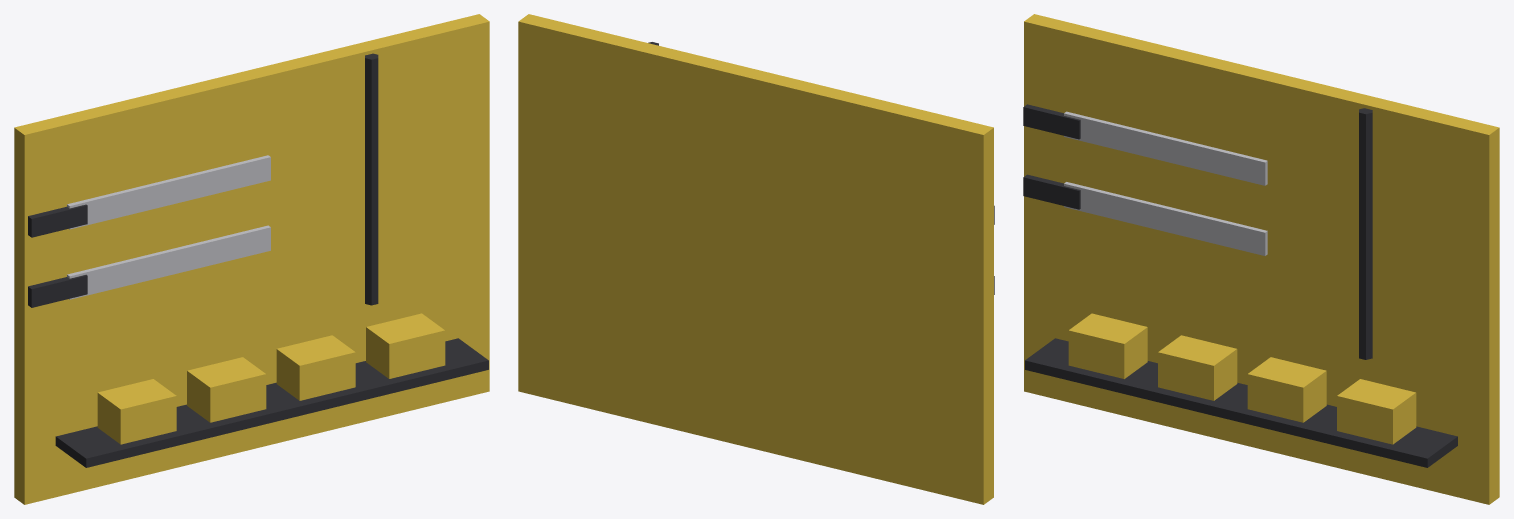
The model's file is interior_weapon_pegboard.glb.
3 renders of one model, left to right at view 1: azimuth 30°, elevation 25°; view 2: azimuth 150°, elevation 25°; view 3: azimuth 330°, elevation 25°, orthographic.
Visible parts, largest first — view 1: interior_weapon_pegboard; view 2: interior_weapon_pegboard; view 3: interior_weapon_pegboard.
Part boxes in pixels (x1,y1,x2,y2): interior_weapon_pegboard: (14, 14, 489, 504); interior_weapon_pegboard: (518, 14, 994, 504); interior_weapon_pegboard: (1023, 14, 1499, 504).
Size of the model in its own units: 2.08 by 1.58 by 0.315.
1 material, 1 textured.
